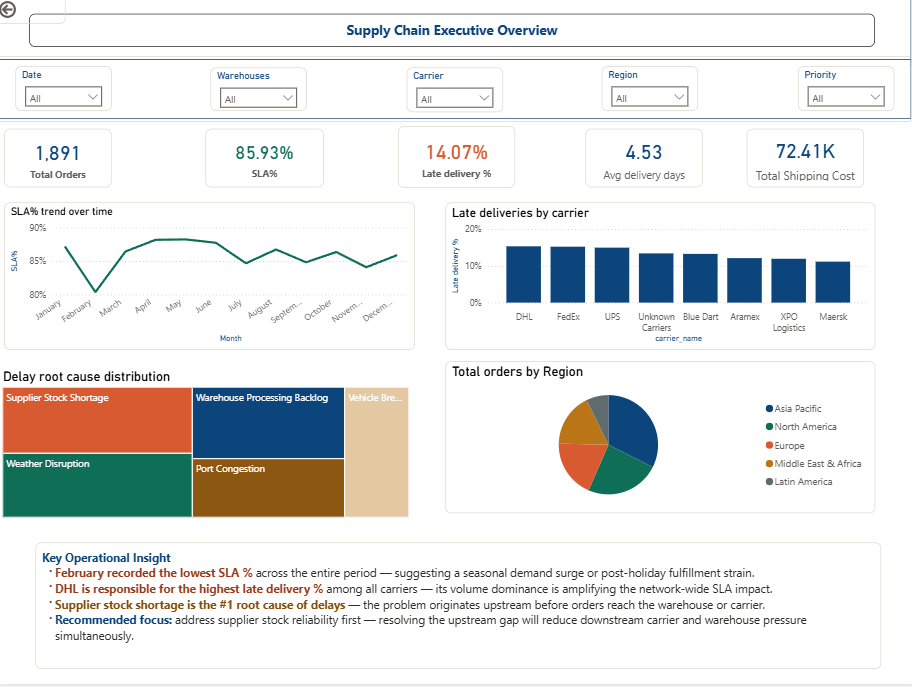

Layout of this report page (visuals, bound fields, positions):
{"tool":"powerbi","page":{"name":"Overview","canvas":[1280,951],"ordinal":0},"visuals":[{"type":"shape","box":[0,0,1270.7,97.4],"z":0},{"type":"textbox","box":[50.8,26.1,1166.4,45.3],"z":1000},{"type":"shape","box":[0,83.7,1270.7,90.6],"z":2000},{"type":"slicer","title":"Date","fields":{"Values":["Calendar.Date.Variation.Date Hierarchy.Month"]},"box":[30.2,97.4,133.1,61.7],"z":3000},{"type":"slicer","title":"Warehouses","fields":{"Values":["public warehouse_clean.warehouse_id"]},"box":[300.2,100.2,133.1,60.4],"z":4000},{"type":"slicer","title":"Priority","fields":{"Values":["public orders_clean.order_priority"]},"box":[1110.1,98.8,133.1,61.7],"z":5000},{"type":"slicer","title":"Carrier","fields":{"Values":["public shipments_stagging.carrier_name"]},"box":[570.2,100.2,133.1,61.7],"z":6000},{"type":"card","fields":{"Values":["Calendar.Total Orders"]},"box":[15.1,185.2,148.2,81],"z":7000},{"type":"card","fields":{"Values":["Calendar.SLA%"]},"box":[293.7,185.2,163.3,81],"z":8000},{"type":"card","fields":{"Values":["Calendar.Late delivery %"]},"box":[558.5,181.1,161.9,85.1],"z":9000},{"type":"card","fields":{"Values":["Calendar.Avg delivery time"]},"box":[816.5,185.2,161.9,81],"z":10000},{"type":"card","title":"Total","fields":{"Values":["Sum(public shipments_stagging.shipment_cost)"]},"box":[1040.1,185.2,161.9,81],"z":11000},{"type":"lineChart","title":"SLA% trend over time","fields":{"Category":["Calendar.Date.Variation.Date Hierarchy.Month"],"Y":["Calendar.SLA%"]},"box":[15.1,286.8,566.7,203.1],"z":12000},{"type":"columnChart","title":"Late deliveries  by carrier","fields":{"Y":["Calendar.Late delivery %"],"Category":["public shipments_stagging.carrier_name"]},"box":[624.4,286.8,592.8,203.1],"z":13000},{"type":"treemap","title":"Delay root cause distribution","fields":{"Group":["public shipments_stagging.delay_reason"],"Values":["Calendar.Late delivery %"]},"box":[8.6,515.7,570,210],"z":14000},{"type":"slicer","title":"Region","fields":{"Values":["public warehouse_clean.region"]},"box":[840.1,97.4,133.1,61.7],"z":15000},{"type":"pieChart","title":"Total orders by Region","fields":{"Category":["public warehouse_clean.region"],"Y":["Calendar.Total Orders"]},"box":[624.4,505,592.8,209.9],"z":16000},{"type":"textbox","box":[58,756,1166,174],"z":17000},{"type":"actionButton","box":[0,0,100,40],"z":18000}]}

Visuals, with their boxes in screenshot pixels (x1, y1, x2, y2), scaled from the page's 1280x951 canvas onto the 912x687 screenshot:
shape: bbox=(0, 0, 905, 70)
textbox: bbox=(36, 19, 867, 52)
shape: bbox=(0, 60, 905, 126)
"Date" slicer: bbox=(22, 70, 116, 115)
"Warehouses" slicer: bbox=(214, 72, 309, 116)
"Priority" slicer: bbox=(791, 71, 886, 116)
"Carrier" slicer: bbox=(406, 72, 501, 117)
card - Calendar.Total Orders: bbox=(11, 134, 116, 192)
card - Calendar.SLA%: bbox=(209, 134, 326, 192)
card - Calendar.Late delivery %: bbox=(398, 131, 513, 192)
card - Calendar.Avg delivery time: bbox=(582, 134, 697, 192)
"Total" card: bbox=(741, 134, 856, 192)
"SLA% trend over time" lineChart: bbox=(11, 207, 415, 354)
"Late deliveries  by carrier" columnChart: bbox=(445, 207, 867, 354)
"Delay root cause distribution" treemap: bbox=(6, 373, 412, 524)
"Region" slicer: bbox=(599, 70, 693, 115)
"Total orders by Region" pieChart: bbox=(445, 365, 867, 516)
textbox: bbox=(41, 546, 872, 672)
actionButton: bbox=(0, 0, 71, 29)
